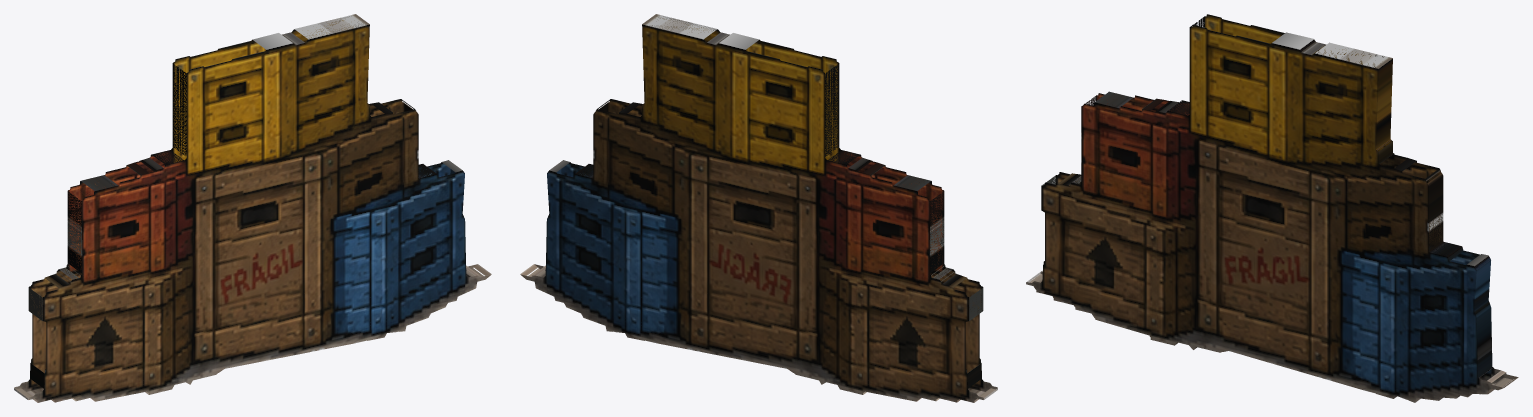
The model's file is props_05.fbx.
3 renders of one model, left to right at view 1: azimuth 30°, elevation 25°; view 2: azimuth 150°, elevation 25°; view 3: azimuth 330°, elevation 25°, orthographic. The views are drawn at different scales.
Visible parts, largest first — view 1: geometry_0; view 2: geometry_0; view 3: geometry_0.
Boxes of the visible parts, x1,y1,x2,y2 form: geometry_0: [14, 14, 491, 402]; geometry_0: [520, 14, 997, 402]; geometry_0: [1026, 14, 1518, 402].
Size of the model in its own units: 3.8 by 2.48 by 0.1992.
Materials: 1 (1 with a texture image).
